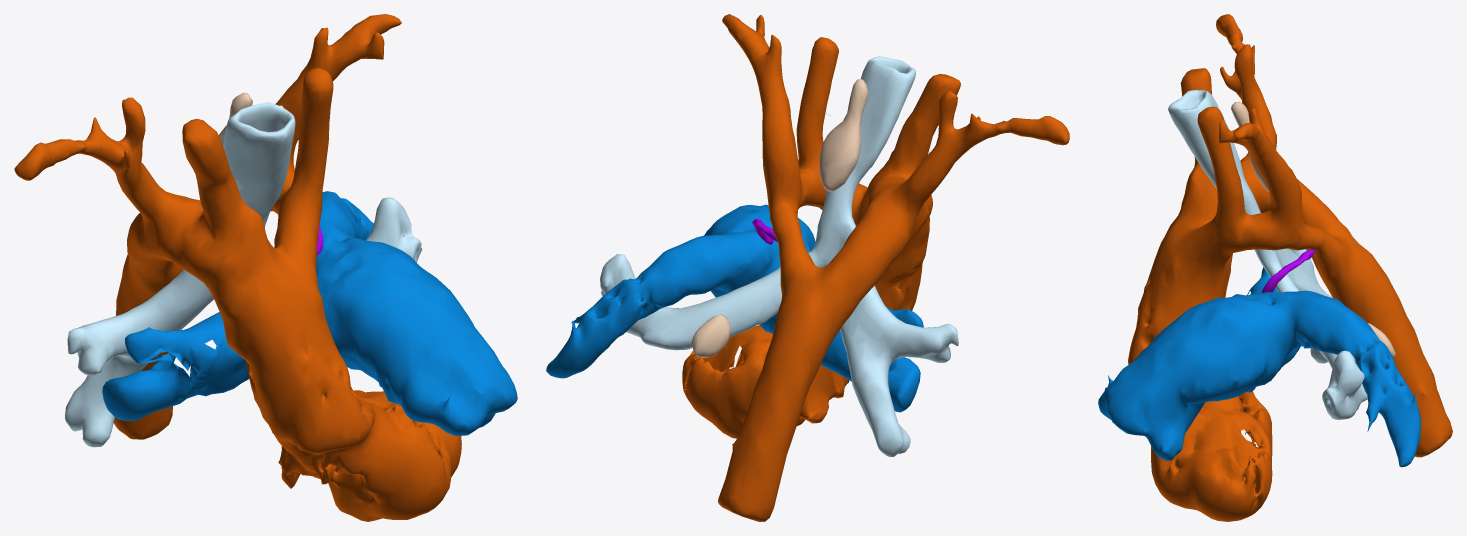
Rendered from {S,D,S} DAA.gltf.
3 renders of one model, left to right at view 1: azimuth 30°, elevation 25°; view 2: azimuth 150°, elevation 25°; view 3: azimuth 270°, elevation 25°, orthographic. The views are drawn at different scales.
Visible parts, largest first — view 1: aorta, pulmonary artery, trachea; view 2: aorta, trachea, pulmonary artery, esophagus; view 3: aorta, pulmonary artery, trachea, esophagus, ligamentum arteriosum.
Part boxes in pixels (x1=…): aorta: x1=14, y1=14, x2=461, y2=521; pulmonary artery: x1=102, y1=191, x2=517, y2=435; trachea: x1=64, y1=102, x2=422, y2=447; aorta: x1=682, y1=14, x2=1069, y2=521; trachea: x1=600, y1=56, x2=958, y2=456; pulmonary artery: x1=546, y1=204, x2=923, y2=412; esophagus: x1=691, y1=79, x2=868, y2=357; aorta: x1=1128, y1=14, x2=1452, y2=521; pulmonary artery: x1=1098, y1=267, x2=1421, y2=467; trachea: x1=1168, y1=90, x2=1367, y2=419; esophagus: x1=1231, y1=101, x2=1395, y2=357; ligamentum arteriosum: x1=1261, y1=250, x2=1315, y2=293.
Bounding box in the file's own units: 56.7 × 53.76 × 43.61.
